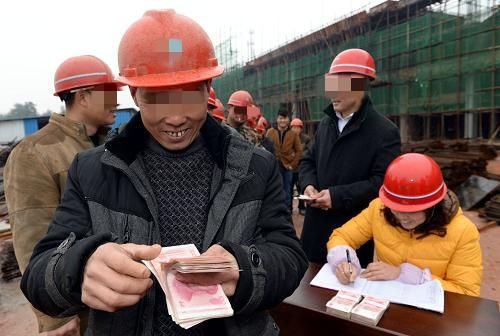helmet: (117, 9, 224, 91), (379, 153, 449, 214), (53, 53, 121, 101), (327, 49, 378, 81), (227, 90, 255, 108)
person: (20, 7, 309, 336), (2, 53, 122, 336), (325, 150, 483, 298), (293, 48, 400, 264), (264, 111, 301, 173), (223, 90, 258, 144)
